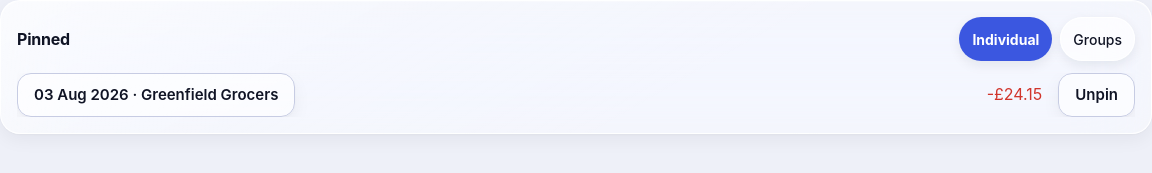
it: pinned panel › shows individually pinned transactions, compactly, with the note hidden until opened
Expected: the text "Lent for the school trip" is not shown
Click the button "03 Aug 2026 · Greenfield Grocers" at (156, 95), box left=17, top=73, right=295, bottom=117
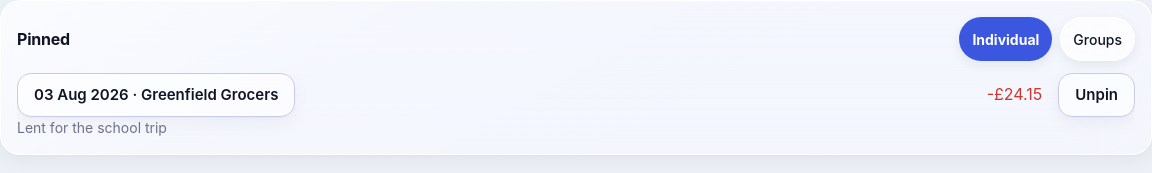
Expected: the text "Lent for the school trip" is shown, left=17, top=119, right=167, bottom=136
